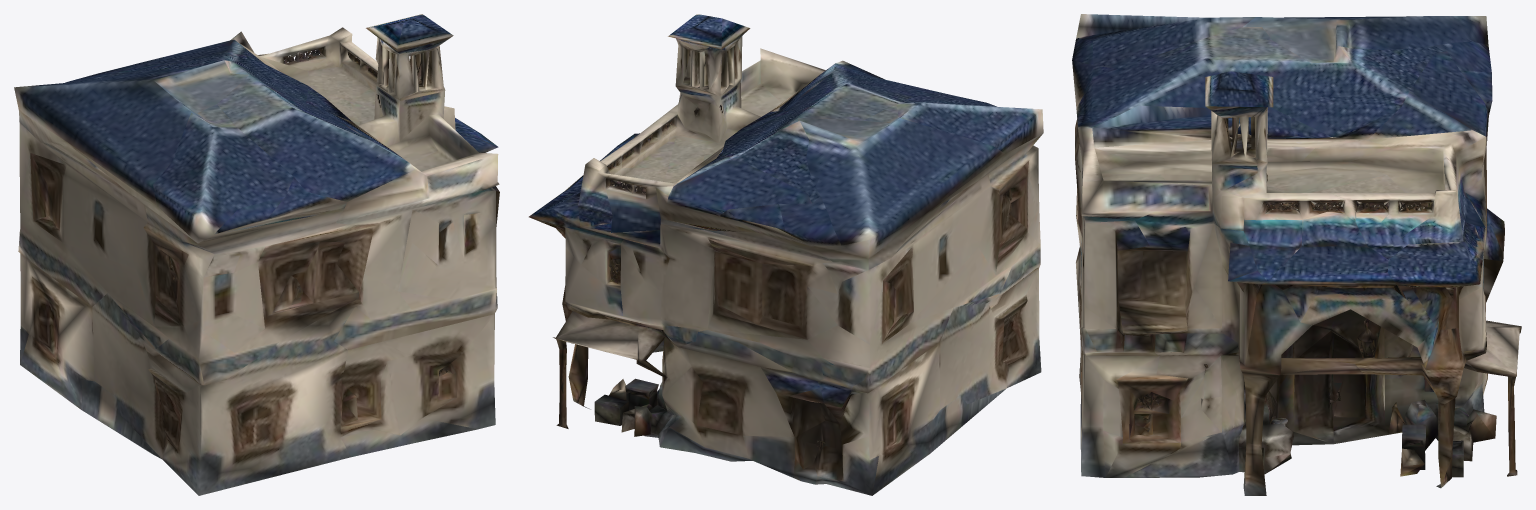
The model's file is house_merchant_2.glb.
3 renders of one model, left to right at view 1: azimuth 30°, elevation 25°; view 2: azimuth 150°, elevation 25°; view 3: azimuth 270°, elevation 25°, orthographic. The views are drawn at different scales.
Parts seen in each view (by area): view 1: tripo_node_85479c51-2ba2-4342-b6e5-ea57296c1e8c; view 2: tripo_node_85479c51-2ba2-4342-b6e5-ea57296c1e8c; view 3: tripo_node_85479c51-2ba2-4342-b6e5-ea57296c1e8c.
Part boxes in pixels (<box>): tripo_node_85479c51-2ba2-4342-b6e5-ea57296c1e8c: <box>14,14,499,495</box>; tripo_node_85479c51-2ba2-4342-b6e5-ea57296c1e8c: <box>529,14,1043,495</box>; tripo_node_85479c51-2ba2-4342-b6e5-ea57296c1e8c: <box>1072,14,1521,495</box>.
Bounding box in the file's own units: 0.9579 × 0.8836 × 0.9176.
Materials: 1 (1 with a texture image).
